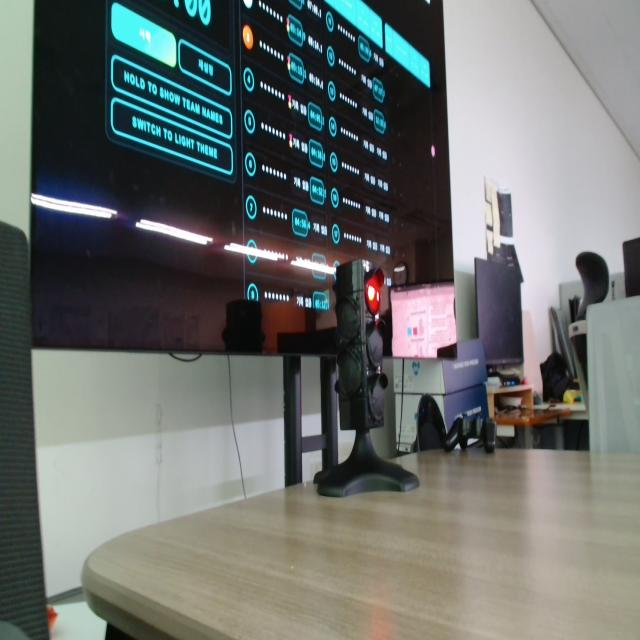red_light: (366, 270, 383, 315), (367, 281, 380, 315)
